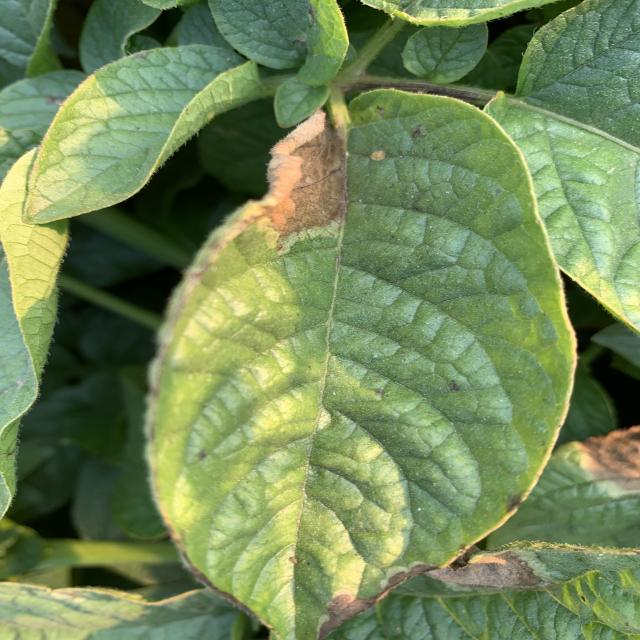lateblight: (262, 110, 345, 238), (328, 565, 430, 616), (427, 550, 548, 589), (580, 425, 640, 490)
